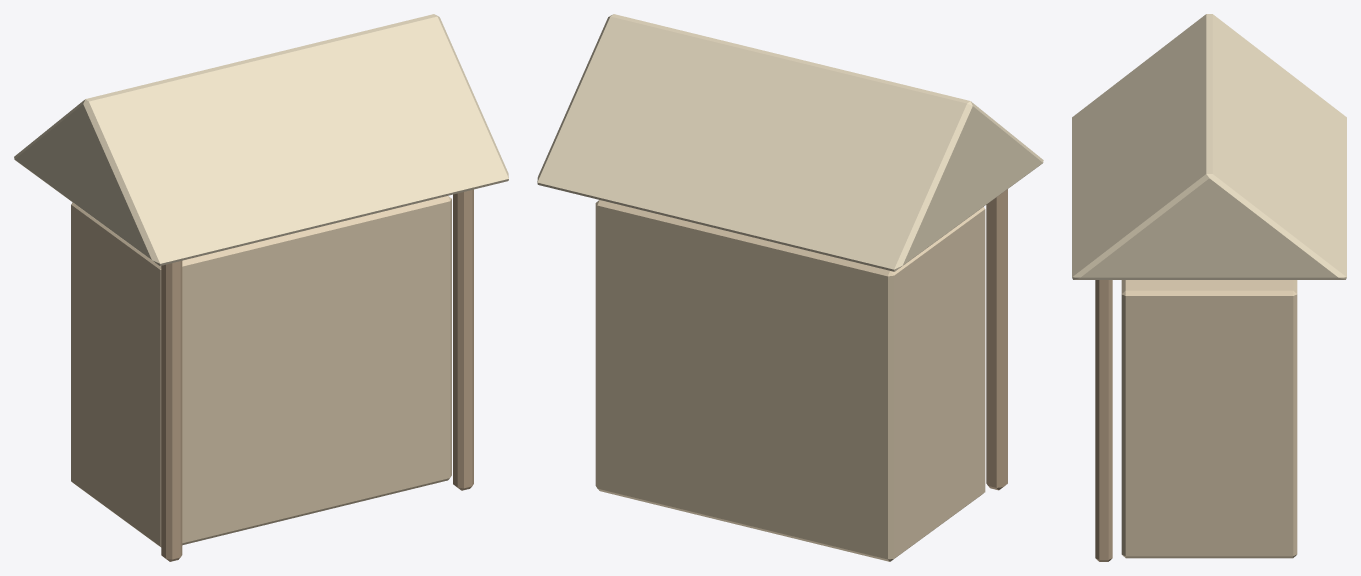
File: stall.glb
3 renders of one model, left to right at view 1: azimuth 30°, elevation 25°; view 2: azimuth 150°, elevation 25°; view 3: azimuth 270°, elevation 25°, orthographic. The views are drawn at different scales.
Parts seen in each view (by area): view 1: counter, awning, post1, post2; view 2: counter, awning, post1; view 3: awning, counter, post2.
Part boxes in pixels (<box>): counter: <box>71,196,451,547</box>; awning: <box>14,14,508,265</box>; post1: <box>161,261,182,561</box>; post2: <box>453,189,473,490</box>; counter: <box>595,200,985,561</box>; awning: <box>537,14,1043,271</box>; post1: <box>986,189,1007,490</box>; awning: <box>1072,14,1346,279</box>; counter: <box>1121,280,1297,558</box>; post2: <box>1095,280,1112,561</box>.
Size of the model in its own units: 1.1 by 1.25 by 0.7817.
